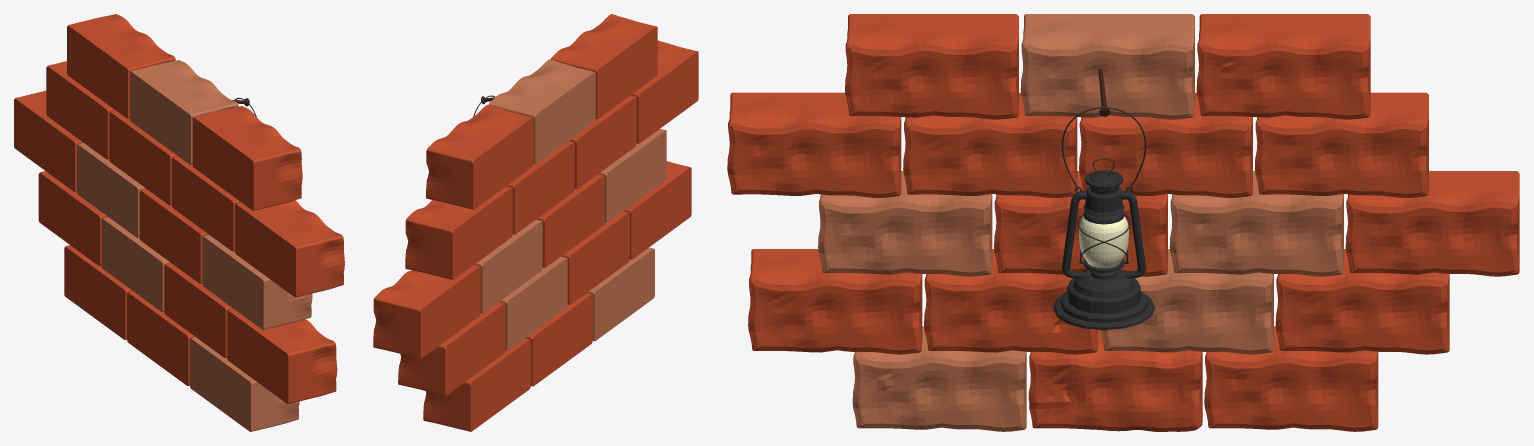
The model's file is tunnellamp.fbx.
The picture shows the model from 3 angles, left to right: view 1: azimuth 30°, elevation 25°; view 2: azimuth 150°, elevation 25°; view 3: azimuth 270°, elevation 25°; orthographic projection. The views are drawn at different scales.
Visible parts, largest first — view 1: Cube.003; view 2: Cube.003; view 3: Cube.003, Cylinder.003, Sphere.
Boxes of the visible parts, x1,y1,x2,y2 form: Cube.003: (14, 14, 344, 431); Cube.003: (373, 14, 698, 431); Cube.003: (727, 14, 1519, 431); Cylinder.003: (1053, 170, 1154, 329); Sphere: (1079, 216, 1128, 268).
Bounding box in the file's own units: 216 × 500 × 927.
